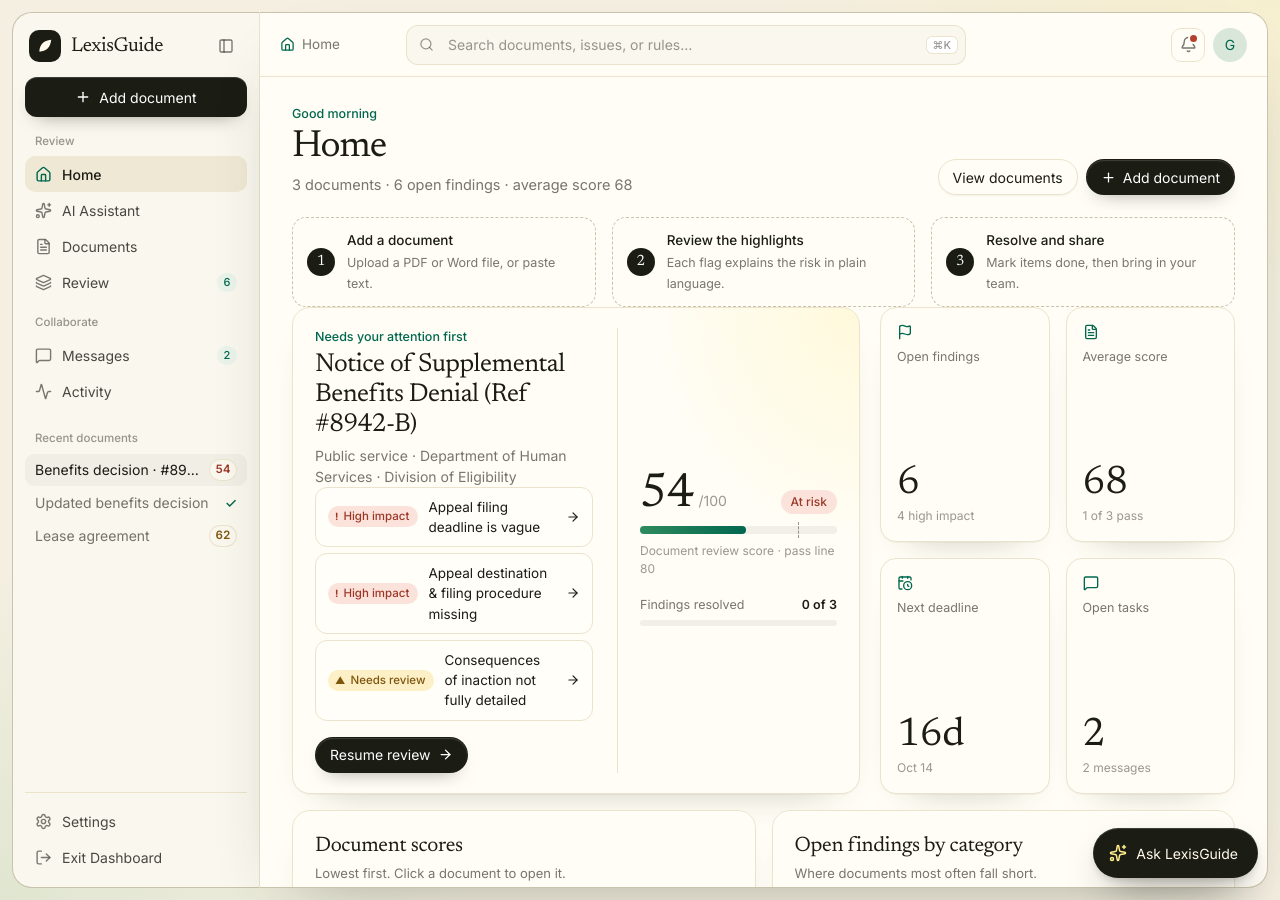
Search and notifications › searches documents and findings from the top bar
Click the button named "Search workspace" at (426, 44), box [410,28,442,60]
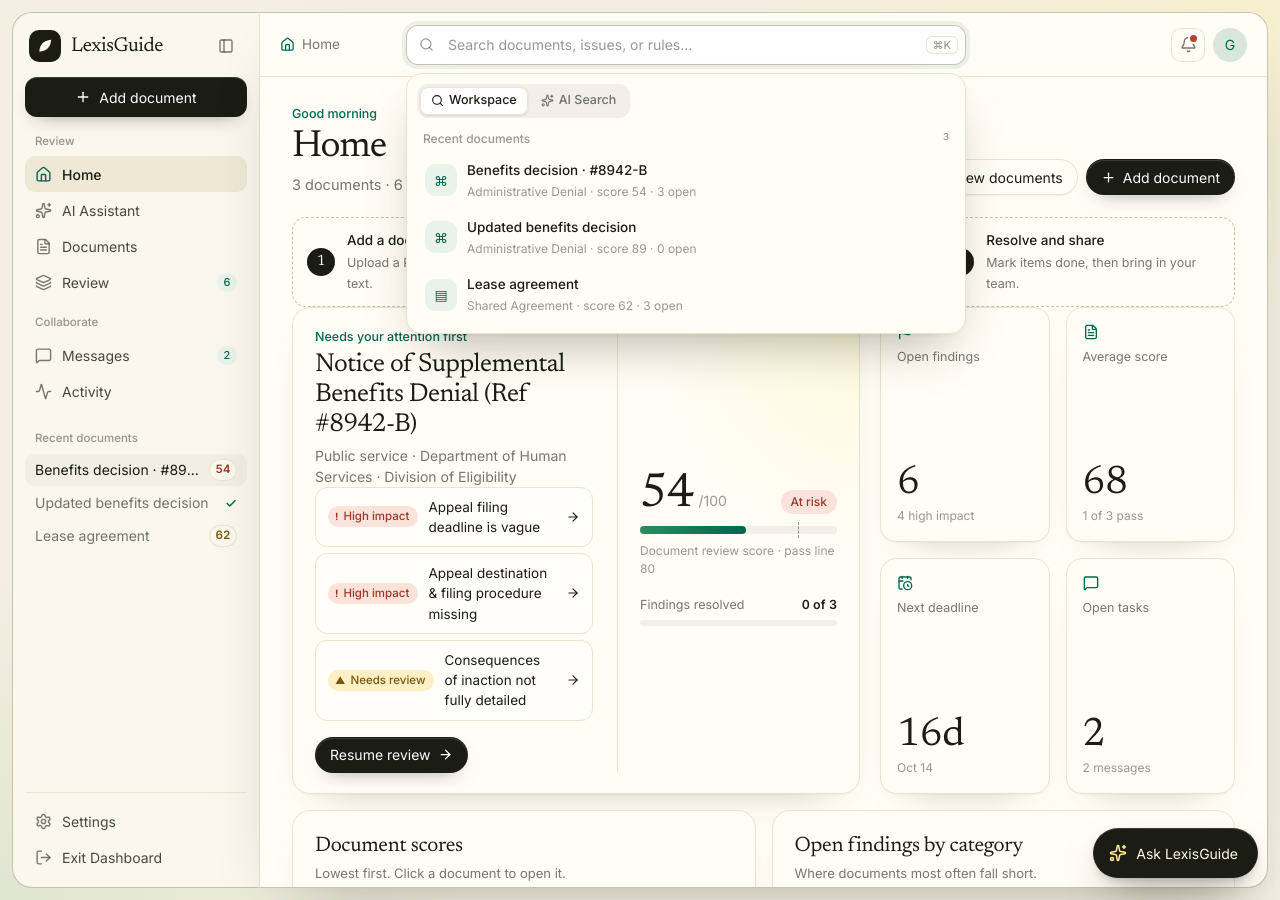
Type "deadline" into the field labelled "Search documents, issues, or rules" at (684, 44), box [448,34,920,55]
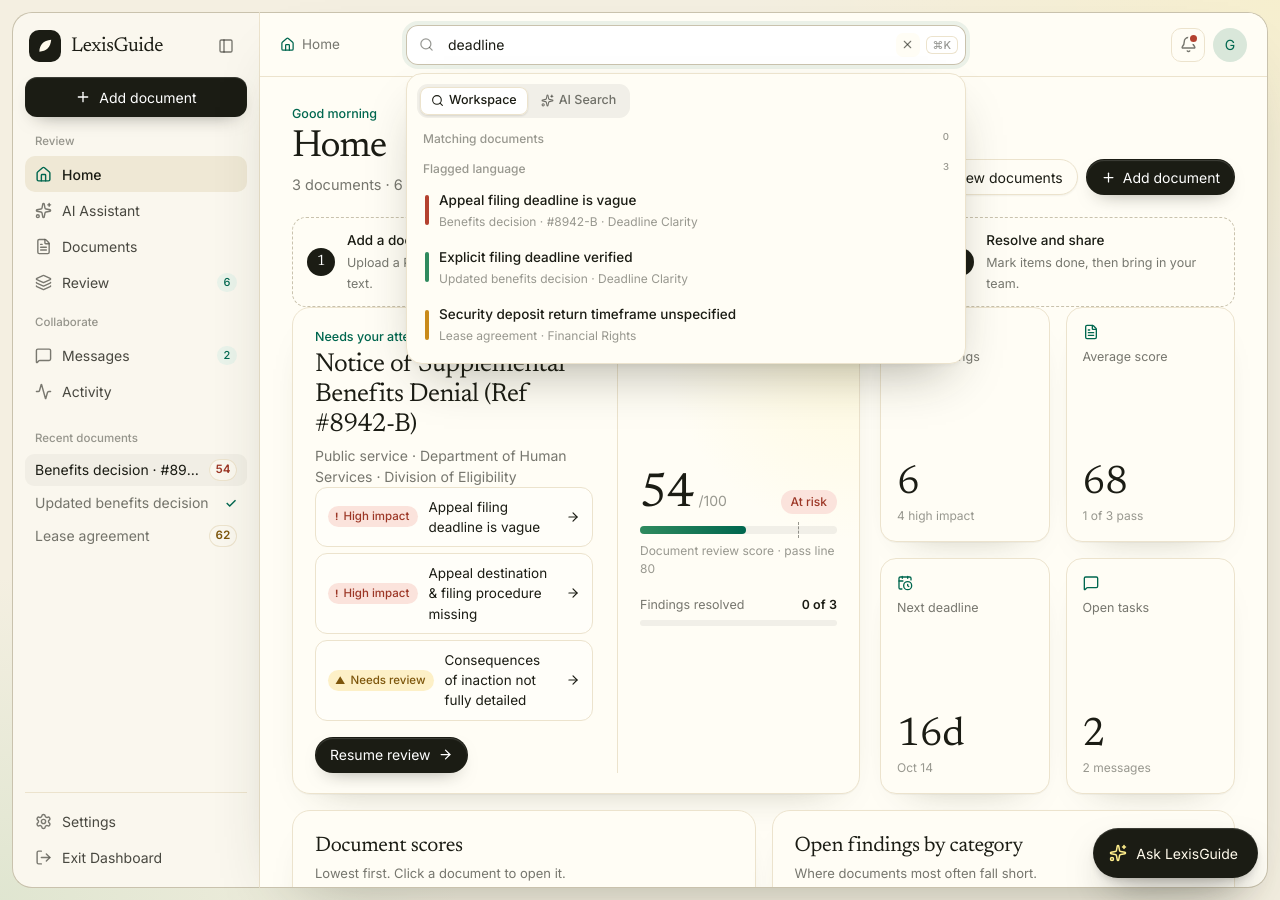
Result: the text "Appeal filing deadline is vague" below "Flagged language" is shown at [439,192,636,208]
